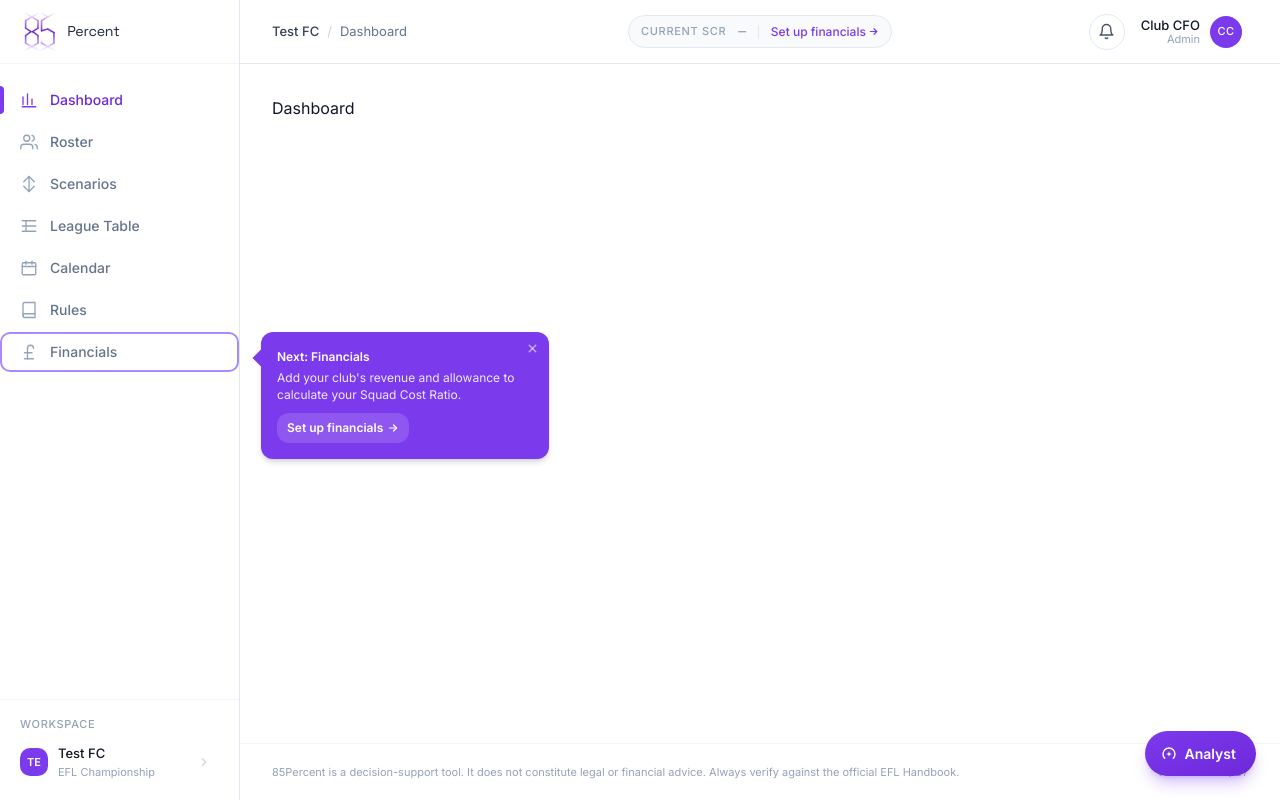
Test case: onboarding UX: TopBar SCR widget + Step 1/2 coach-marks › scenario 6: clicking "Set up financials" in the SCR pill navigates to /financials
The width and height of the screenshot is (1280, 800).
Expected: the text with test id "page" is shown, [272, 98, 354, 118]
Click the link "Current SCR — Set up financials" at (684, 31), box [628, 15, 892, 48]
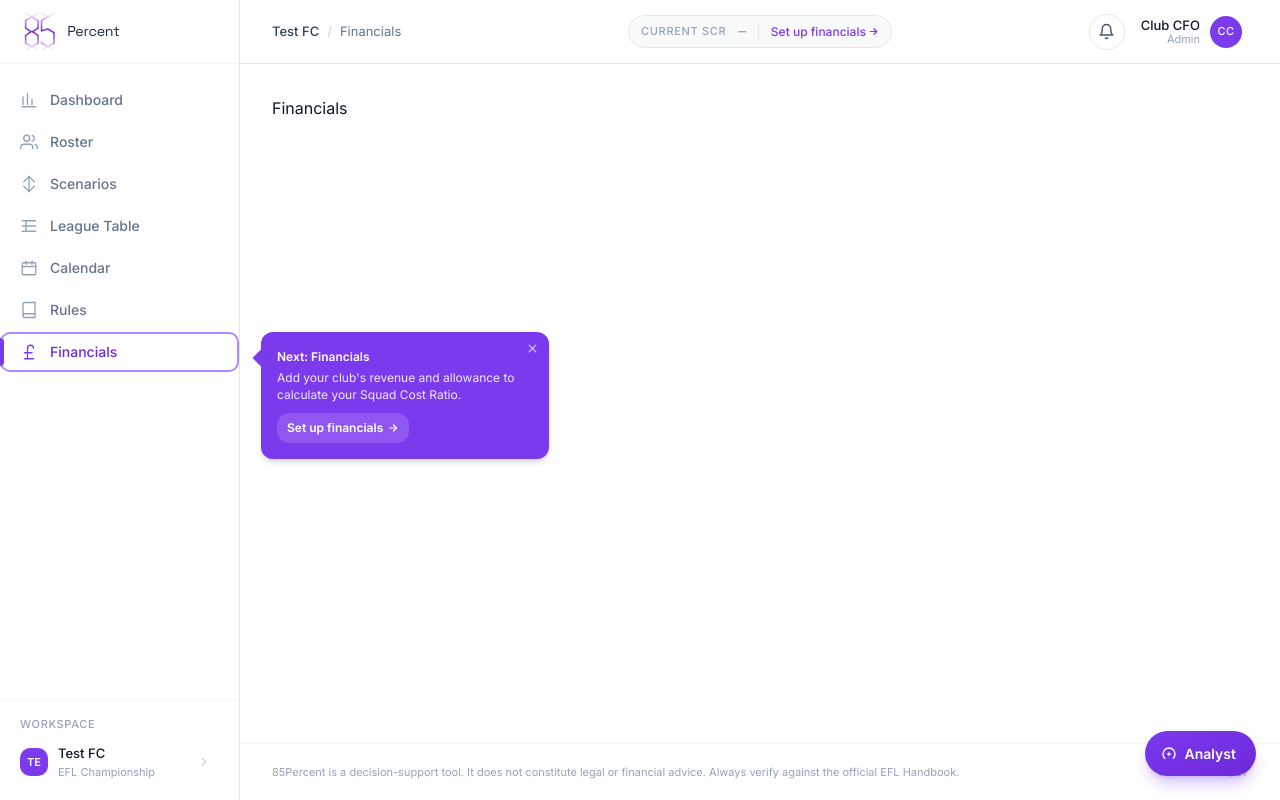
Result: the text with test id "page" reads "Financials" at [272, 98, 348, 118]
